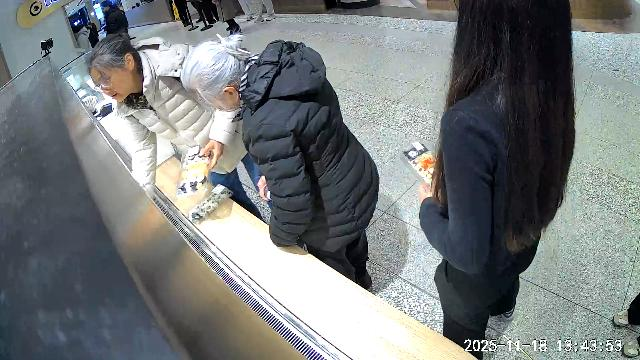sushi-box: (398, 140, 437, 193), (176, 143, 214, 197), (187, 184, 234, 225)
